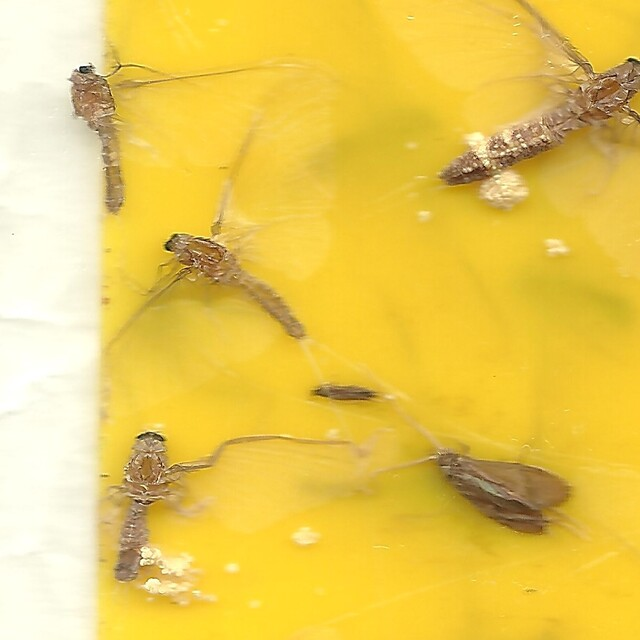Ephemeroptera: (160, 232, 308, 341), (116, 424, 173, 581), (69, 59, 126, 213)
Trichoptera: (436, 447, 571, 538), (308, 382, 381, 404)
